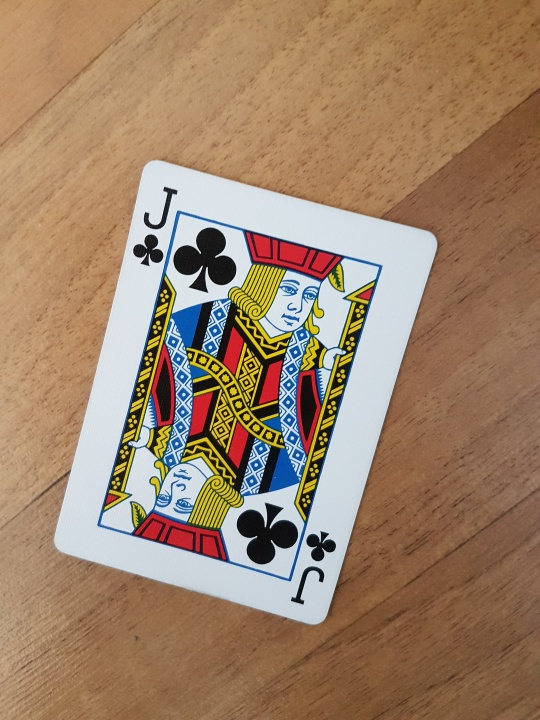jack: (38, 145, 449, 623)
